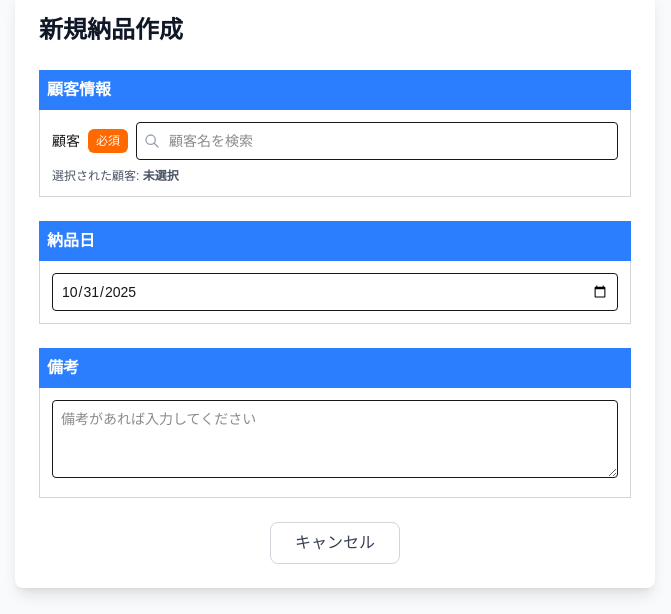
DeliveryAddPage › shows customer dropdown on search input click
Click the field with placeholder "顧客名を検索".
click(377, 141)  # box [136,122,618,160]
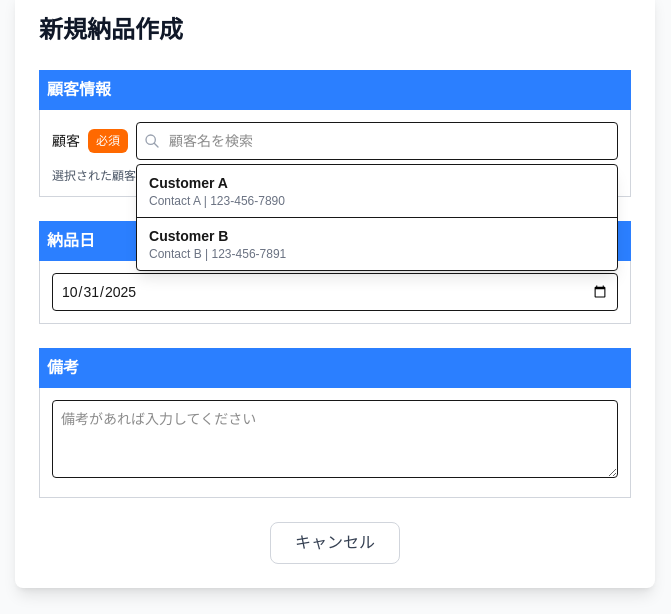
Now the text "Customer A" is shown, box [149,175,228,191]
Now the text "Customer B" is shown, box [149,228,228,244]
